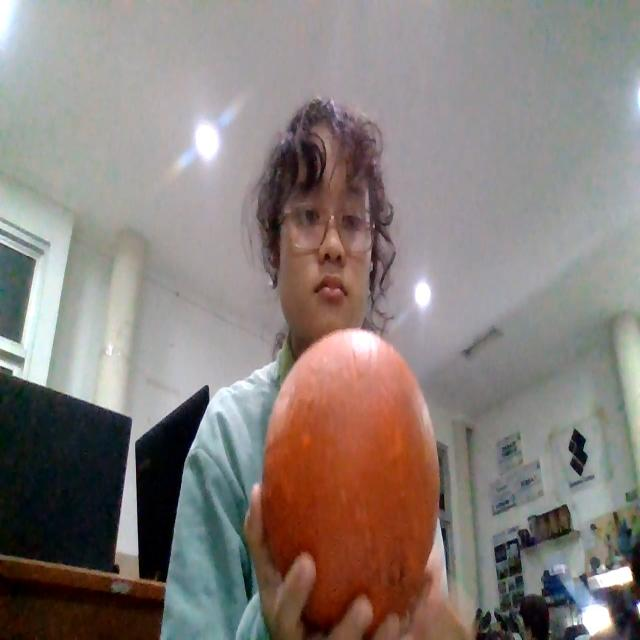ball: (260, 326, 440, 636)
